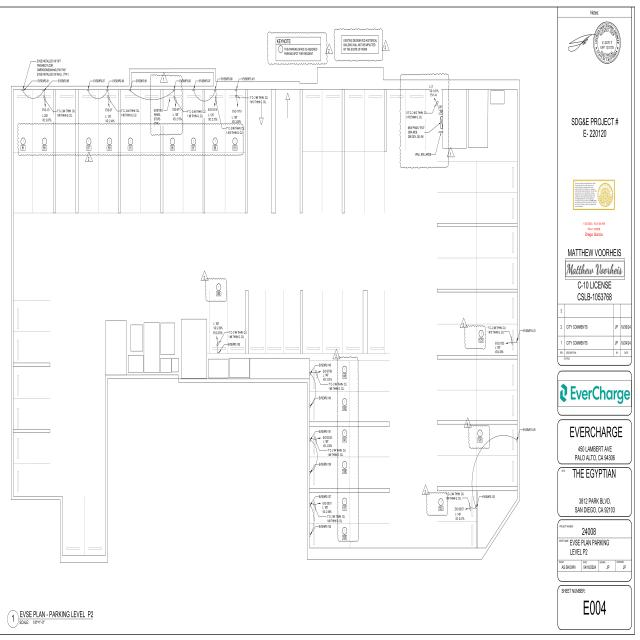evse: (308, 500, 313, 514), (516, 336, 520, 352), (308, 434, 312, 449), (214, 350, 224, 356), (308, 468, 312, 482), (308, 402, 312, 416), (308, 366, 312, 380), (40, 87, 49, 93), (20, 87, 28, 93), (85, 88, 93, 94), (127, 87, 135, 93), (233, 87, 241, 93), (212, 86, 219, 92), (309, 530, 312, 544), (104, 88, 112, 93), (475, 502, 478, 515), (516, 435, 519, 446), (190, 88, 198, 92), (172, 89, 179, 92)
gfi: (439, 109, 444, 113)
panel: (440, 116, 445, 130)
